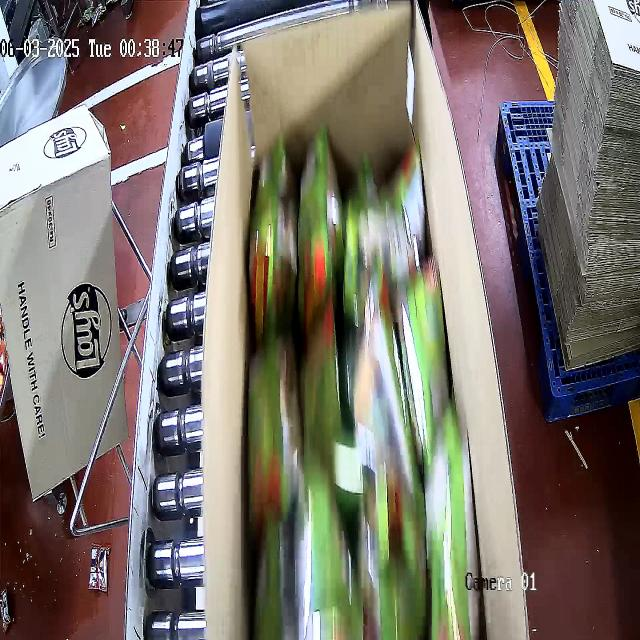YOGURT_HERB: (245, 131, 474, 640)
